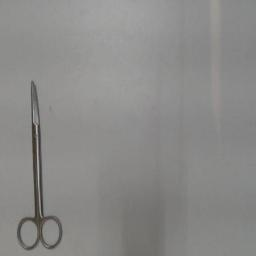Curved Mayo Scissors: (14, 76, 68, 252)
